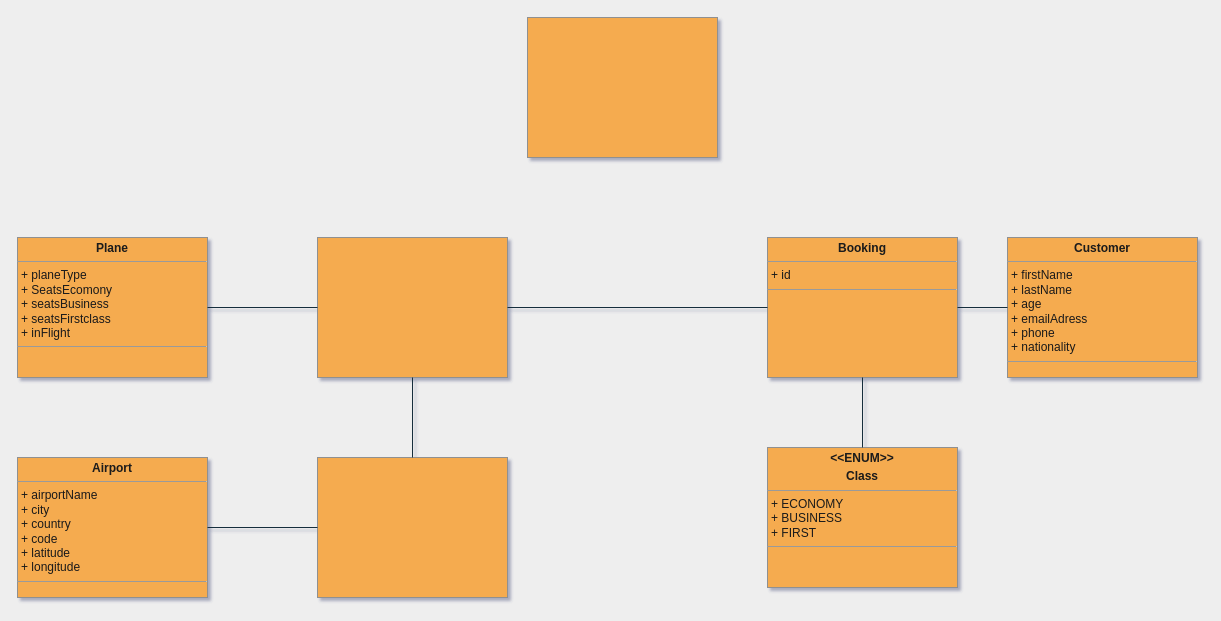
Image size: 1221x621. Some labels were removed from this diagram. Each missing label, with the box of its shape:
Employee + firstName + lastName + age: (526, 16, 718, 158)
Flight + departureDate + time: (316, 236, 508, 378)
FlightRoutes + arrivalLocation + departureLocation + duration + class: (316, 456, 508, 598)
